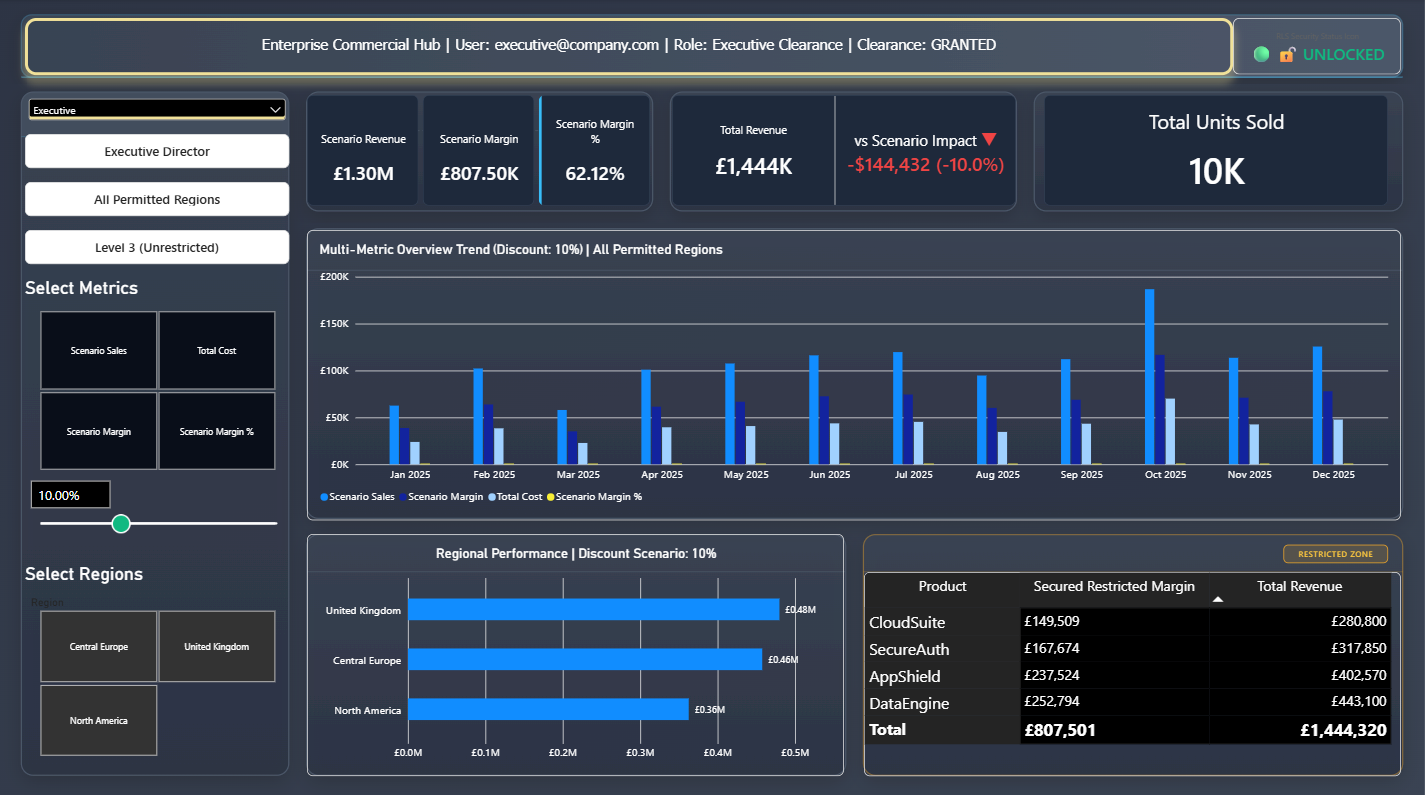

Layout of this report page (visuals, bound fields, positions):
{"tool":"powerbi","page":{"name":"Page 1","canvas":[1920,1080],"ordinal":0},"visuals":[{"type":"card","fields":{"Values":["Key Measures.Top Governance Banner"]},"box":[33.7,25.6,1626.7,76.8],"z":0},{"type":"slicer","title":"Select Metrics","fields":{"Values":["Metric Parameter.Metric Parameter"]},"box":[33.7,375.7,355.5,260],"z":1000},{"type":"slicer","fields":{"Values":["Discount Scenario.Discount Rate"]},"box":[33.7,643.9,355.5,109.1],"z":2000},{"type":"clusteredColumnChart","fields":{"Category":["DimDate.Month"],"Y":["Key Measures.Scenario Sales","Key Measures.Scenario Margin","Key Measures.Total Cost","Key Measures.Scenario Margin %"]},"box":[413.4,311.1,1473.2,390.5],"z":3000},{"type":"slicer","title":"Select Regions","fields":{"Values":["DimRegion.Region"]},"box":[33.7,761.2,355.5,260],"z":4000},{"type":"cardVisual","fields":{"Data":["Key Measures.RLS Security Status Icon"]},"box":[1660.4,25.6,226.2,76.8],"z":5000},{"type":"cardVisual","fields":{"Data":["Key Measures.Scenario Sales","Key Measures.Scenario Margin","Key Measures.Scenario Margin %"]},"box":[413.4,129.3,463.2,149.5],"z":6000},{"type":"cardVisual","fields":{"Data":["Key Measures.Total Revenue"]},"box":[904.9,129.3,463.2,149.5],"z":7000},{"type":"cardVisual","fields":{"Data":["Key Measures.Total Units Sold"]},"box":[1405.9,129.3,463.2,149.5],"z":8000},{"type":"pivotTable","fields":{"Rows":["FactSales.Product"],"Values":["Key Measures.Secured Restricted Margin","Key Measures.Total Revenue"]},"box":[1163.5,771.6,723.1,274.7],"z":9000},{"type":"actionButton","title":"Security Overlay Shield","box":[1163.5,771.6,723.1,274.7],"z":10000},{"type":"clusteredBarChart","fields":{"Category":["DimRegion.Region"],"Y":["Key Measures.Scenario Sales"]},"box":[413.4,720.4,723.1,325.9],"z":11000},{"type":"slicer","fields":{"Values":["Persona Table.PersonName"]},"box":[33.7,129.3,355.5,61.9],"z":12000},{"type":"card","fields":{"Values":["Key Measures.Display Role"]},"box":[33.7,181.8,355.5,45.8],"z":13000},{"type":"card","fields":{"Values":["Key Measures.Display Scope"]},"box":[33.7,246.4,355.5,45.8],"z":14000},{"type":"card","fields":{"Values":["Key Measures.Display Clearance"]},"box":[33.7,311.1,355.5,45.8],"z":15000}]}

Visuals, with their boxes in screenshot pixels (x1, y1, x2, y2), scaled from the page's 1920x1080 canvas onto the 1425x795 screenshot:
card - Key Measures.Top Governance Banner: (x1=25, y1=19, x2=1232, y2=75)
"Select Metrics" slicer: (x1=25, y1=277, x2=289, y2=468)
slicer - Discount Scenario.Discount Rate: (x1=25, y1=474, x2=289, y2=554)
clusteredColumnChart - DimDate.Month x Key Measures.Scenario Sales: (x1=307, y1=229, x2=1400, y2=516)
"Select Regions" slicer: (x1=25, y1=560, x2=289, y2=752)
cardVisual - Key Measures.RLS Security Status Icon: (x1=1232, y1=19, x2=1400, y2=75)
cardVisual - Key Measures.Scenario Sales x Key Measures.Scenario Margin: (x1=307, y1=95, x2=651, y2=205)
cardVisual - Key Measures.Total Revenue: (x1=672, y1=95, x2=1015, y2=205)
cardVisual - Key Measures.Total Units Sold: (x1=1043, y1=95, x2=1387, y2=205)
pivotTable - FactSales.Product x Key Measures.Secured Restricted Margin: (x1=864, y1=568, x2=1400, y2=770)
"Security Overlay Shield" actionButton: (x1=864, y1=568, x2=1400, y2=770)
clusteredBarChart - DimRegion.Region x Key Measures.Scenario Sales: (x1=307, y1=530, x2=843, y2=770)
slicer - Persona Table.PersonName: (x1=25, y1=95, x2=289, y2=141)
card - Key Measures.Display Role: (x1=25, y1=134, x2=289, y2=168)
card - Key Measures.Display Scope: (x1=25, y1=181, x2=289, y2=215)
card - Key Measures.Display Clearance: (x1=25, y1=229, x2=289, y2=263)
